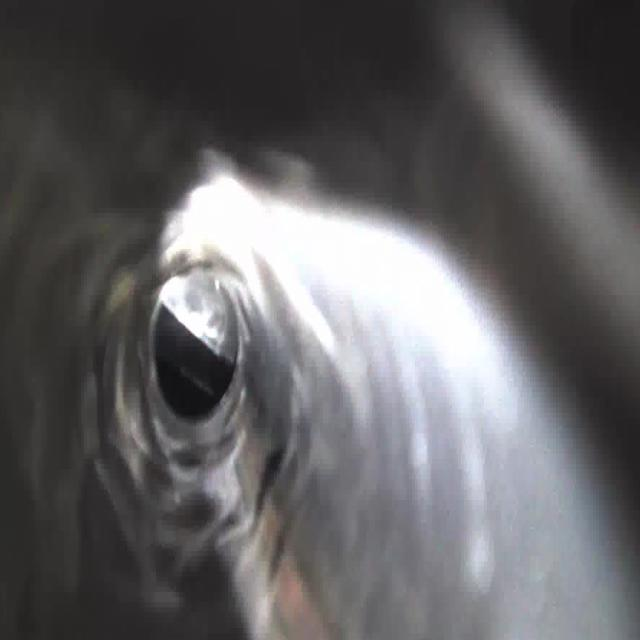crack: (170, 443, 260, 577), (87, 434, 163, 572), (77, 296, 147, 408)
